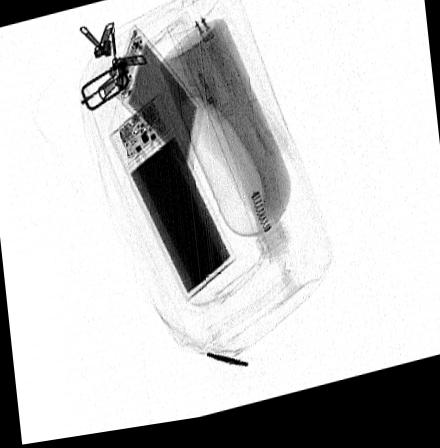Powerbank: (107, 97, 238, 309), (112, 26, 205, 184)
